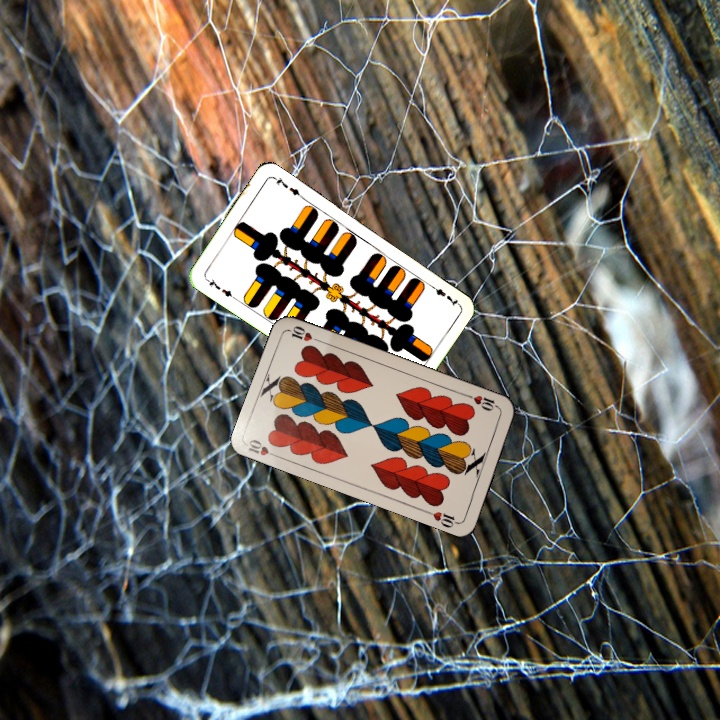E7: (425, 280, 461, 309), (202, 274, 238, 302)
H10: (243, 435, 283, 460), (463, 391, 502, 414)
